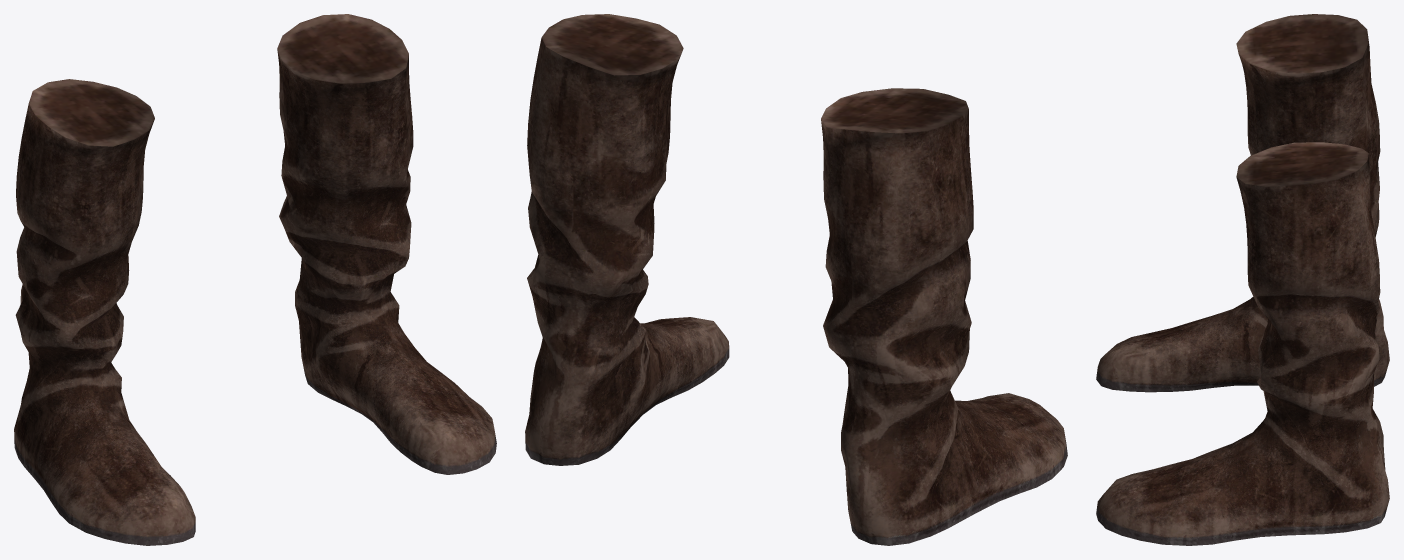
The model's file is dunland_caerdh_boots_light_b.fbx.
3 renders of one model, left to right at view 1: azimuth 30°, elevation 25°; view 2: azimuth 150°, elevation 25°; view 3: azimuth 270°, elevation 25°, orthographic. The views are drawn at different scales.
Parts seen in each view (by area): view 1: dunland_caerdh_boots_light_b; view 2: dunland_caerdh_boots_light_b; view 3: dunland_caerdh_boots_light_b.
Part boxes in pixels (x1=…): dunland_caerdh_boots_light_b: x1=14, y1=14, x2=496, y2=545; dunland_caerdh_boots_light_b: x1=525, y1=14, x2=1067, y2=545; dunland_caerdh_boots_light_b: x1=1096, y1=14, x2=1389, y2=545.
Bounding box in the file's own units: 0.4817 × 0.3012 × 0.3984.
Materials: 1 (1 with a texture image).
